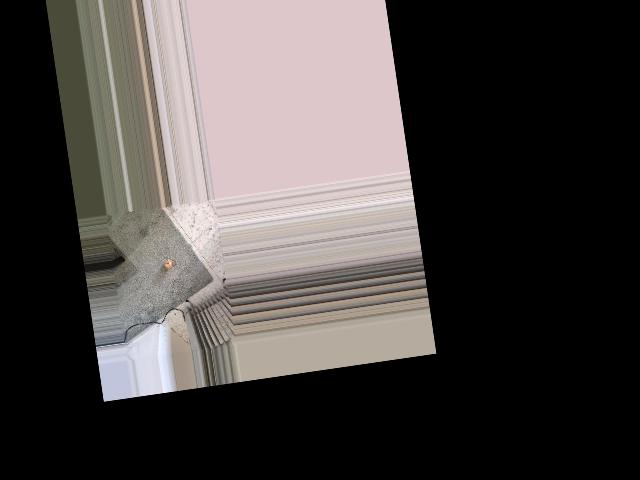onion: (163, 258, 174, 270)
